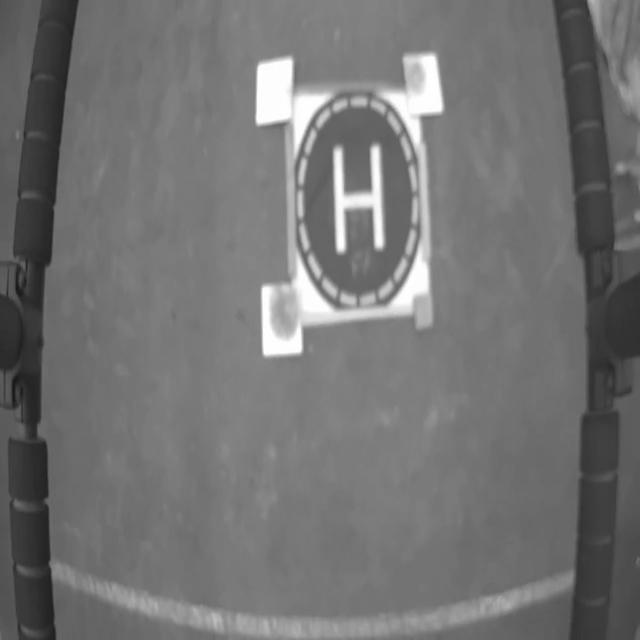Helipad: (332, 142, 386, 254)
